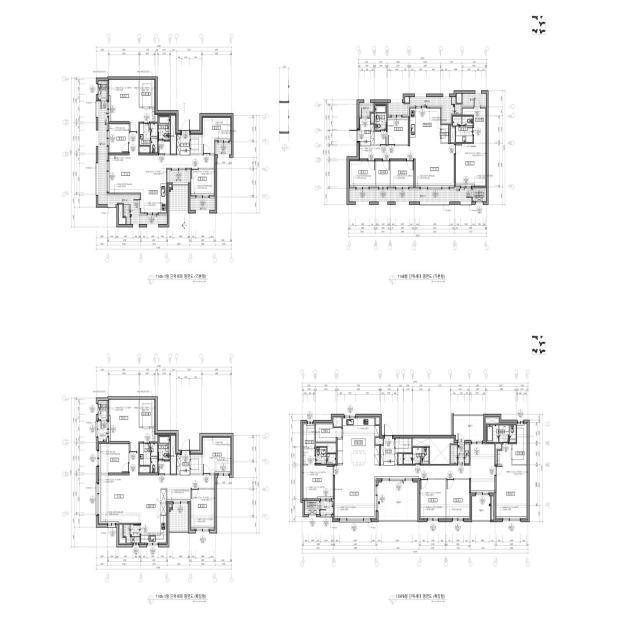space_balconi: (98, 101, 167, 224), (388, 97, 460, 125), (349, 188, 472, 202), (378, 482, 418, 520), (454, 417, 483, 440), (169, 506, 188, 531), (169, 186, 188, 211), (472, 496, 490, 520), (451, 444, 469, 464), (463, 93, 486, 107), (123, 525, 140, 543), (190, 198, 215, 210), (169, 171, 188, 183), (359, 103, 374, 117), (98, 421, 107, 441), (216, 143, 231, 155), (320, 502, 333, 514)
space_bedroom: (109, 80, 154, 132), (109, 400, 154, 452), (496, 444, 527, 518), (303, 448, 333, 498), (456, 144, 486, 186), (203, 117, 231, 153), (203, 437, 231, 473), (420, 480, 445, 518), (191, 490, 215, 529), (446, 480, 469, 518), (99, 444, 128, 473), (349, 161, 375, 187), (191, 170, 215, 196), (391, 161, 414, 187), (109, 124, 128, 153), (388, 118, 408, 144)
space_dressroom: (462, 108, 486, 144), (512, 424, 527, 464), (140, 400, 155, 427), (140, 80, 155, 107), (303, 424, 315, 447)
space_front: (381, 436, 398, 465), (360, 119, 374, 146), (177, 133, 190, 155), (177, 455, 190, 475)
space_kitchen: (337, 418, 379, 465), (141, 489, 166, 543), (410, 108, 440, 145), (141, 170, 166, 213)
space_living_room: (335, 444, 495, 518), (99, 453, 215, 523), (107, 132, 215, 194), (360, 144, 454, 187)
space_other: (413, 439, 453, 464), (316, 424, 342, 442), (376, 161, 390, 187), (167, 488, 190, 501), (395, 439, 412, 453), (191, 134, 202, 153), (316, 443, 336, 453), (191, 455, 202, 473), (171, 436, 176, 474), (171, 116, 176, 154), (158, 461, 170, 474), (375, 132, 387, 145), (158, 141, 170, 154), (441, 125, 448, 143), (119, 205, 125, 224), (119, 525, 125, 544), (496, 444, 501, 464), (486, 418, 499, 424), (334, 418, 342, 427), (491, 496, 494, 520), (451, 125, 455, 143), (139, 147, 149, 153), (457, 94, 462, 103), (376, 438, 383, 444), (399, 454, 403, 464), (371, 114, 374, 123), (405, 97, 409, 103), (376, 418, 379, 424), (155, 114, 157, 122), (155, 434, 157, 442), (169, 504, 171, 507), (169, 185, 171, 187)
space_outdoor_room: (305, 501, 319, 514), (473, 188, 486, 202), (98, 401, 107, 420), (98, 81, 107, 100)
space_toilet: (139, 443, 157, 473), (453, 117, 473, 142), (487, 425, 516, 442), (140, 124, 157, 153), (404, 448, 429, 464), (316, 448, 336, 464), (158, 116, 170, 140), (158, 436, 170, 460), (375, 105, 386, 130)
